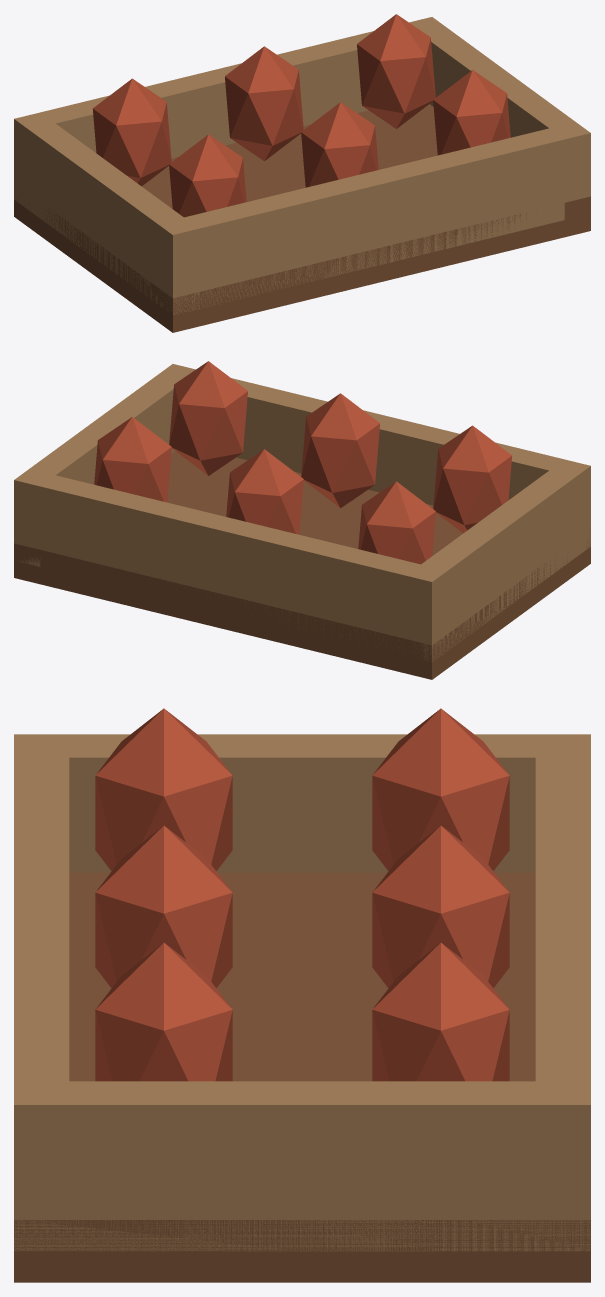
The model's file is set_pepper_basket.glb.
3 renders of one model, top to bottom at view 1: azimuth 30°, elevation 25°; view 2: azimuth 150°, elevation 25°; view 3: azimuth 270°, elevation 25°, orthographic. The views are drawn at different scales.
Parts seen in each view (by area): view 1: set_pepper_basket; view 2: set_pepper_basket; view 3: set_pepper_basket.
Boxes of the visible parts, bbox=[...] form: set_pepper_basket: bbox=[14, 14, 590, 332]; set_pepper_basket: bbox=[14, 361, 590, 679]; set_pepper_basket: bbox=[14, 708, 590, 1282].
Size of the model in its own units: 0.38 by 0.13 by 0.25.
